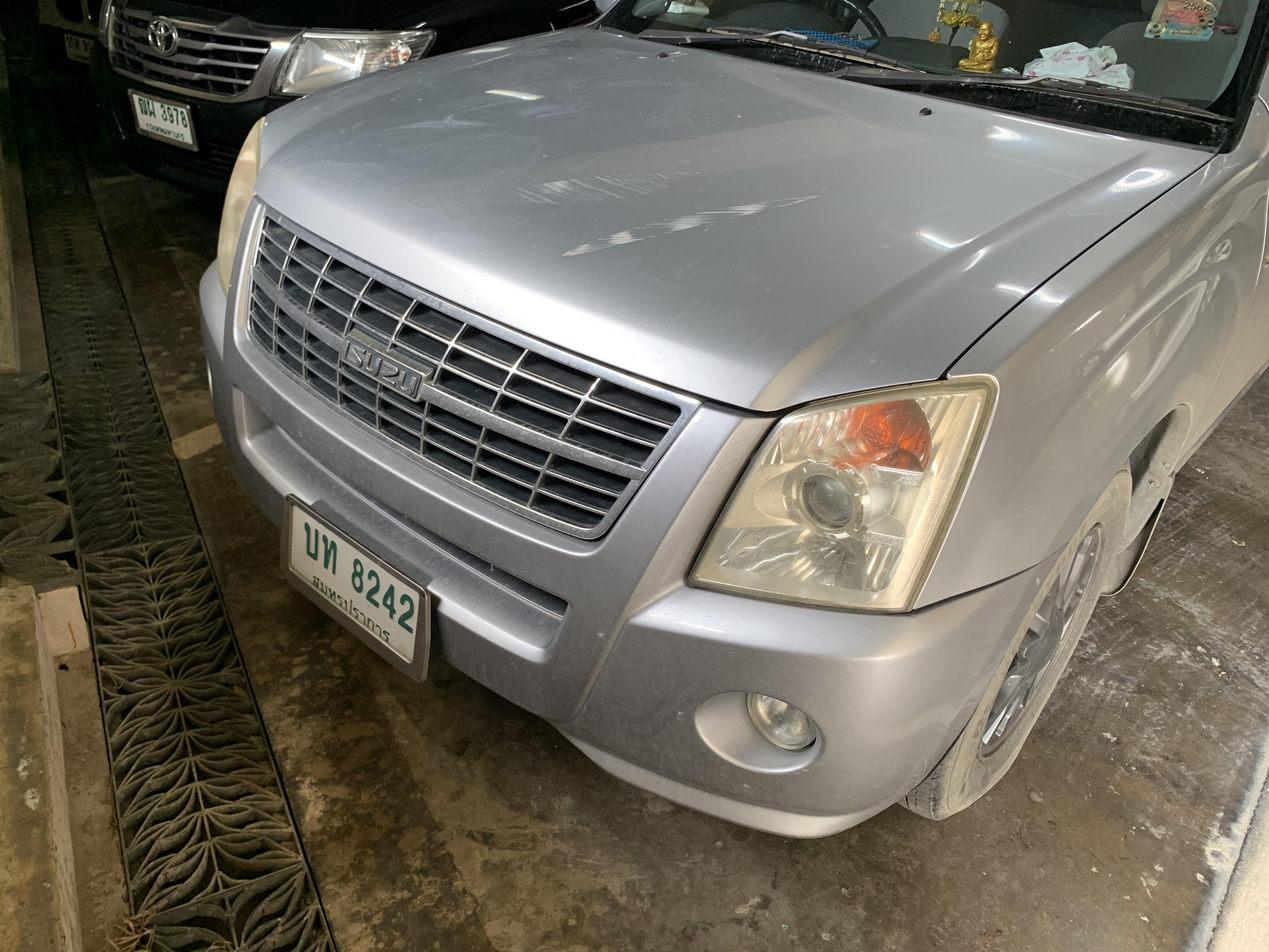license-plate: (276, 483, 435, 690)
